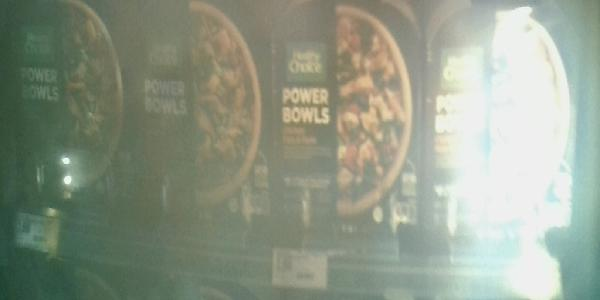pizza1: (276, 1, 421, 251), (140, 1, 276, 231), (2, 1, 139, 216)
